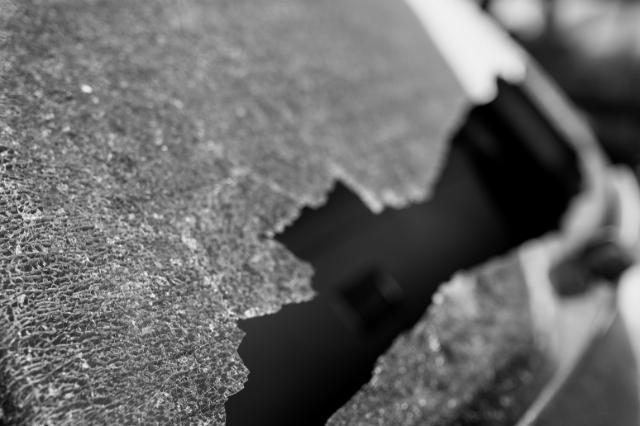Windshield: (2, 0, 569, 408)
